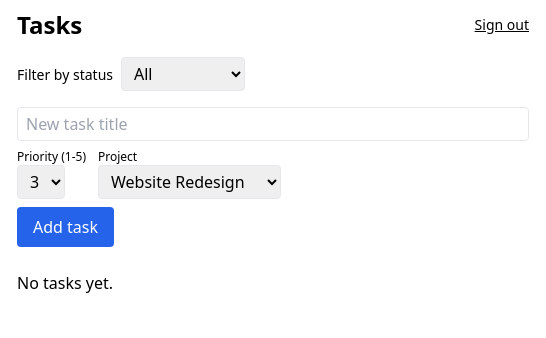
Test case: creating a task › renders the API field message on a 400 and keeps the typed value
The image size is (546, 338).
Expected: the text "No tasks yet." is shown, [17, 272, 113, 294]
Type "x" into the field with placeholder "New task title" at (273, 124), box [17, 107, 529, 141]
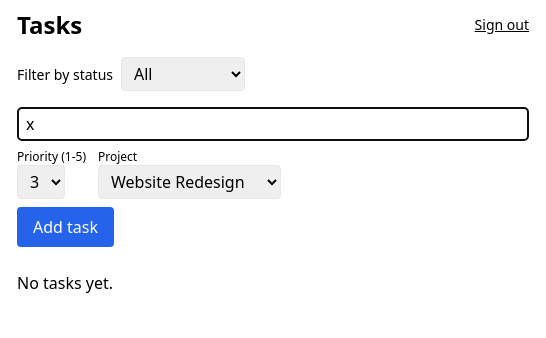
Click the button "Add task" at (66, 227), box [17, 207, 114, 247]
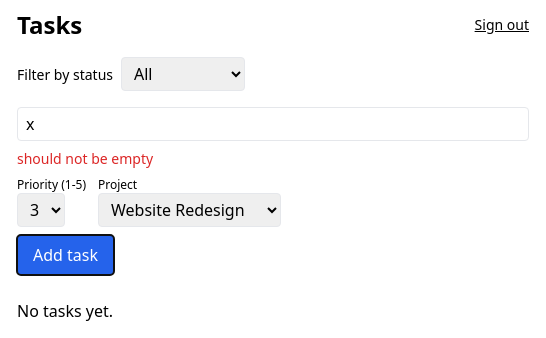
Expected: the text "should not be empty" is shown, [17, 149, 153, 168]
